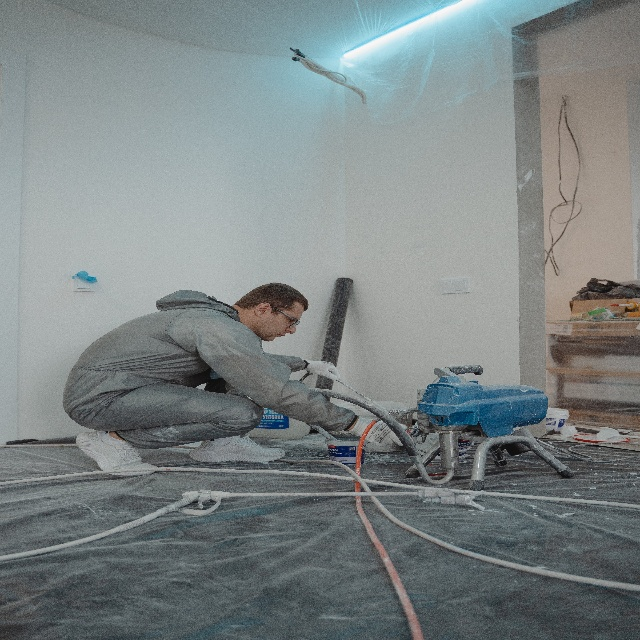Gafas: (272, 305, 300, 329)
Guantes: (352, 416, 410, 453), (304, 354, 339, 382)
